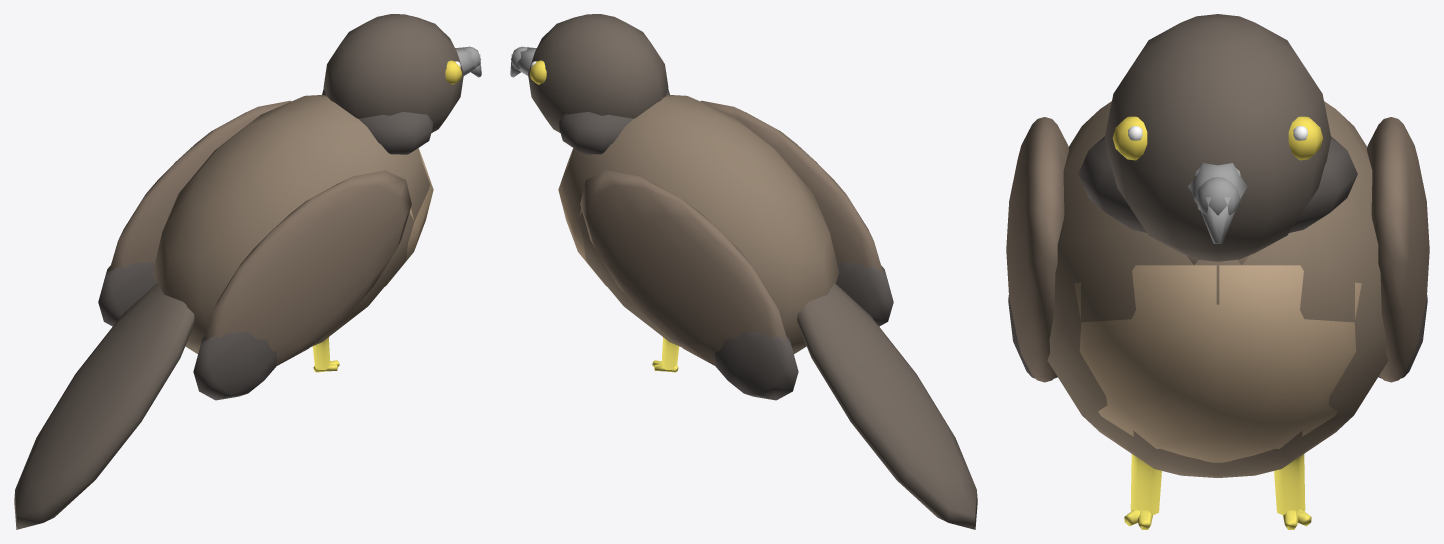
File: crested-serpent-eagle.glb
3 views of the same model, side by side, from view 1: azimuth 30°, elevation 25°; view 2: azimuth 150°, elevation 25°; view 3: azimuth 270°, elevation 25° (orthographic). The views are drawn at different scales.
Parts seen in each view (by area): view 1: e, e.002, e.009, e.004, limb; view 2: e, e.004, e.009, e.002, limb.004; view 3: e, e.009, e.002, e.004, limb, limb.004.
Boxes of the visible parts, left/top/right/bottom form: e: left=14, top=95, right=433, bottom=529; e.002: left=193, top=170, right=411, bottom=400; e.009: left=322, top=14, right=481, bottom=154; e.004: left=98, top=100, right=291, bottom=326; limb: left=312, top=337, right=339, bottom=372; e: left=558, top=95, right=977, bottom=529; e.004: left=580, top=170, right=798, bottom=400; e.009: left=510, top=14, right=669, bottom=154; e.002: left=700, top=100, right=893, bottom=326; limb.004: left=652, top=337, right=679, bottom=372; e: left=1047, top=101, right=1388, bottom=477; e.009: left=1078, top=14, right=1357, bottom=261; e.002: left=1006, top=117, right=1068, bottom=382; e.004: left=1367, top=117, right=1429, bottom=382; limb: left=1124, top=454, right=1161, bottom=529; limb.004: left=1274, top=454, right=1311, bottom=529.
Size of the model in its own units: 0.6599 by 0.5673 by 0.286.
